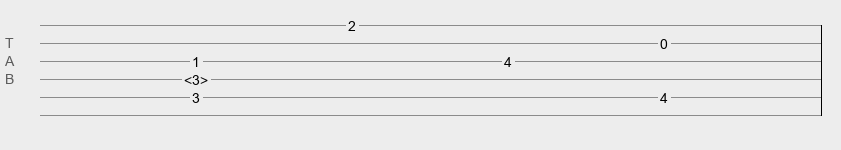0: (660, 36, 668, 46)
1: (192, 54, 200, 64)
2: (348, 18, 356, 28)
3: (192, 90, 200, 100)
4: (504, 54, 512, 64), (660, 90, 668, 100)
harmonic: (184, 72, 208, 82)
